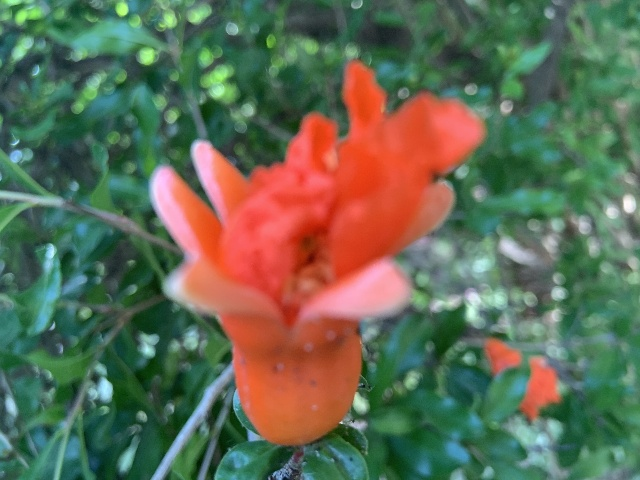flower: (152, 53, 471, 456), (484, 337, 563, 422)
